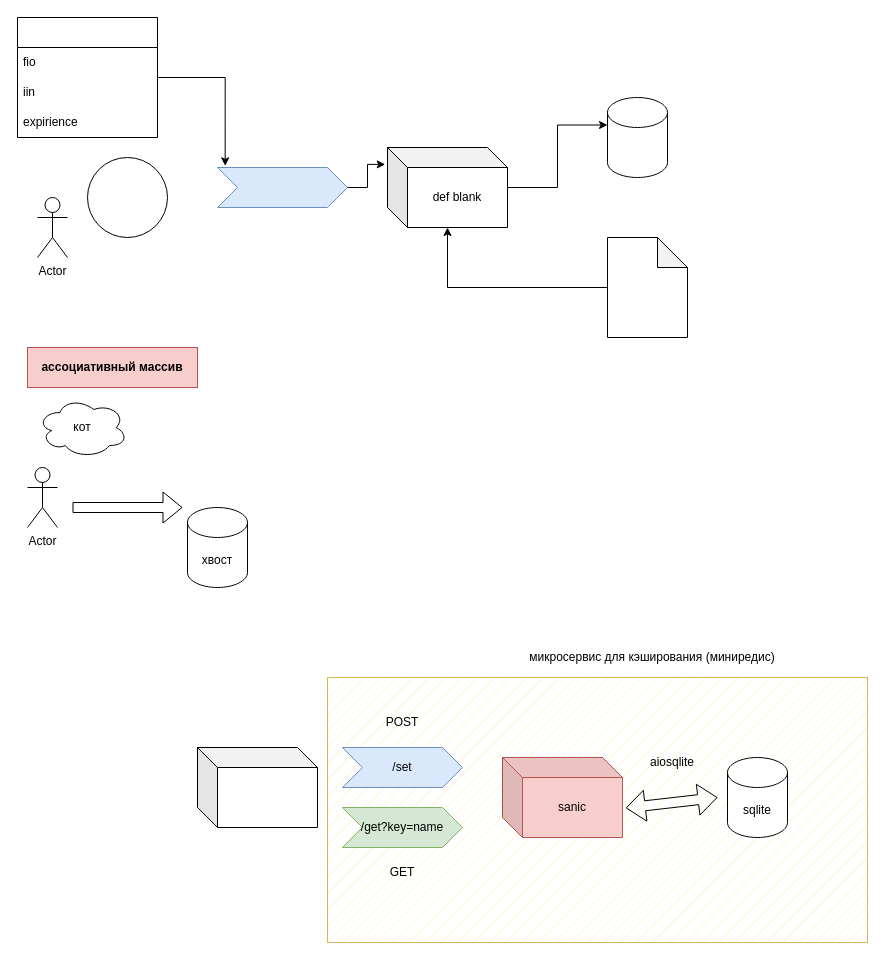
Image size: 885x960. Some labels were removed from this diagram. Here are the shapes that lost their labels. From the top down, the box of each, then its label:
(16, 16, 158, 138): Резюме
(606, 96, 668, 178): DB
(216, 166, 348, 208): /blank
(606, 236, 688, 338): HTML
(196, 746, 318, 828): django
